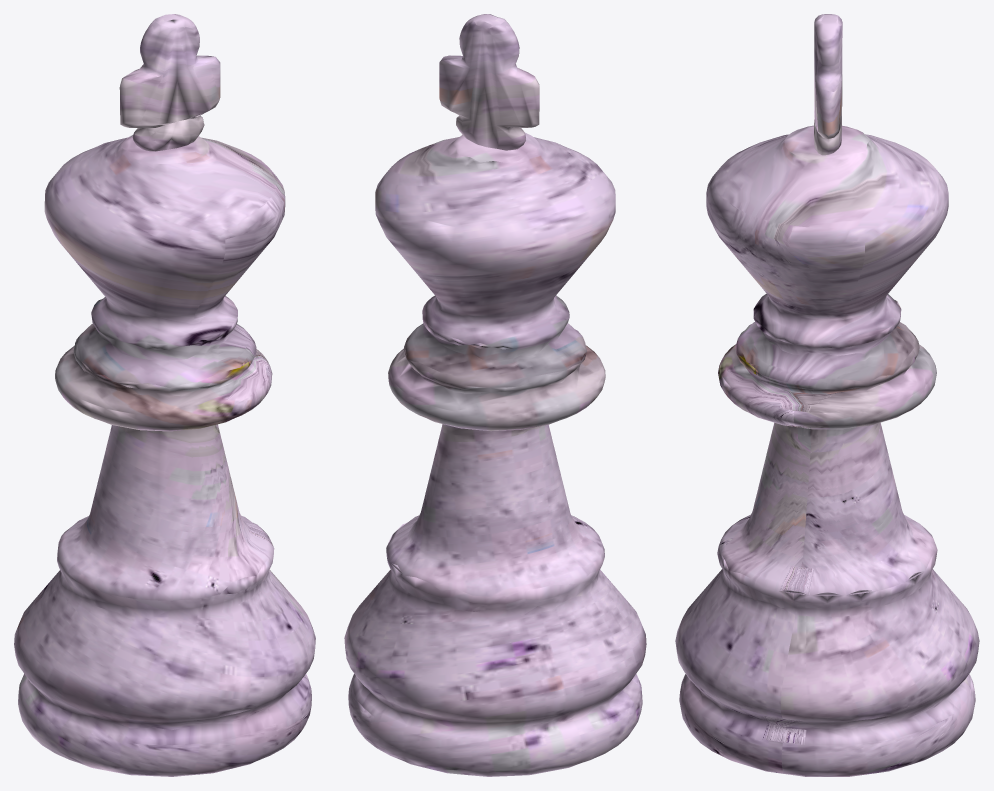
File: white_king.glb
3 renders of one model, left to right at view 1: azimuth 30°, elevation 25°; view 2: azimuth 150°, elevation 25°; view 3: azimuth 270°, elevation 25°, orthographic.
Parts seen in each view (by area): view 1: Circle.031; view 2: Circle.031; view 3: Circle.031.
Part boxes in pixels (bbox=[...]): Circle.031: bbox=[14, 14, 315, 776]; Circle.031: bbox=[344, 14, 646, 776]; Circle.031: bbox=[675, 14, 979, 776].
Size of the model in its own units: 1.47 by 3.77 by 1.47.
Materials: 1 (1 with a texture image).
